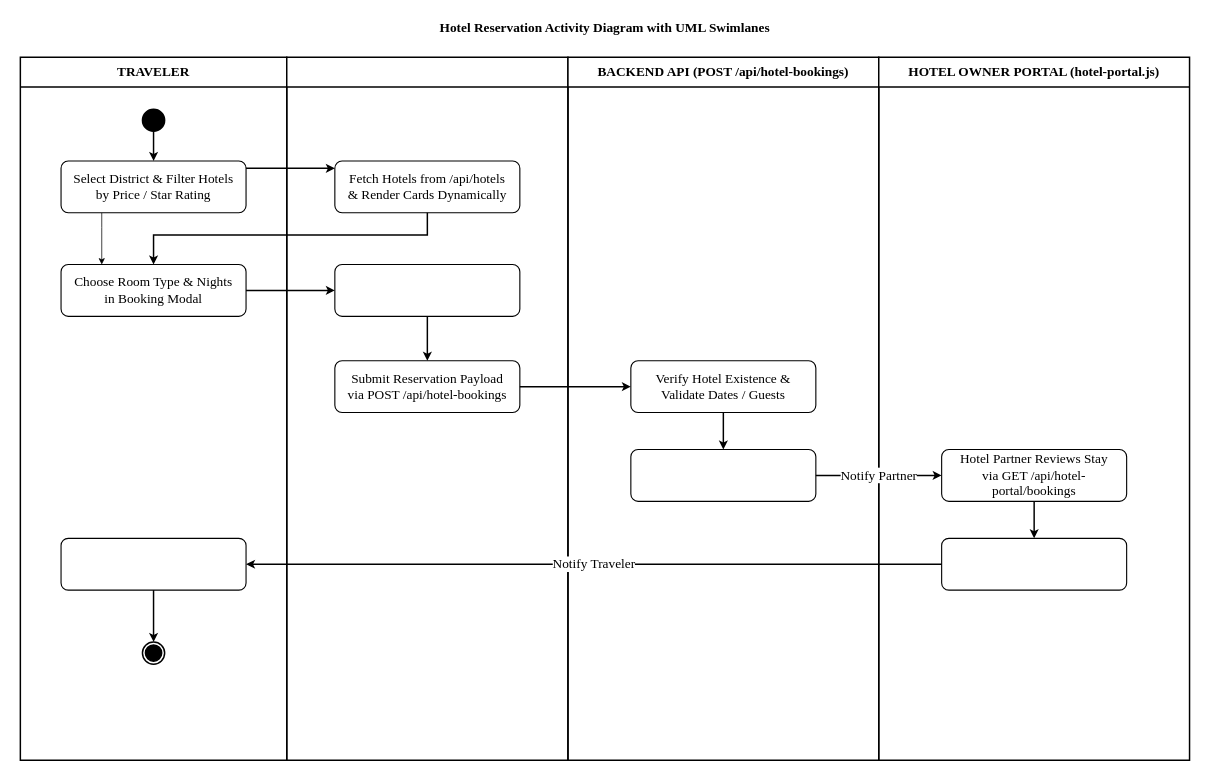
Some shapes in this 1209 by 773 pixel diagram are drawn without their labels. Here are the shapes that lost their labels. From the top down, the box of each, then its label:
(334, 264, 520, 317): Compute Total = Nights * Rate and Validate Inputs
(286, 56, 568, 761): HOTEL BOOKING UI (hotel-booking.js)
(630, 449, 816, 502): Generate HB-XXXX-YYYY Insert in hotelBookings
(60, 537, 246, 590): Receive Status Notification & View Stay in Dashboard
(941, 537, 1127, 590): Partner Updates Status (Confirmed / Completed)
